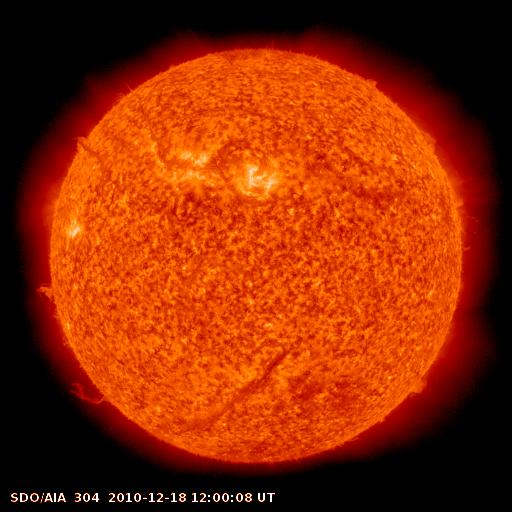prominence: (55, 371, 119, 414), (23, 268, 73, 322), (391, 367, 446, 404), (62, 120, 103, 160), (406, 115, 441, 159)
